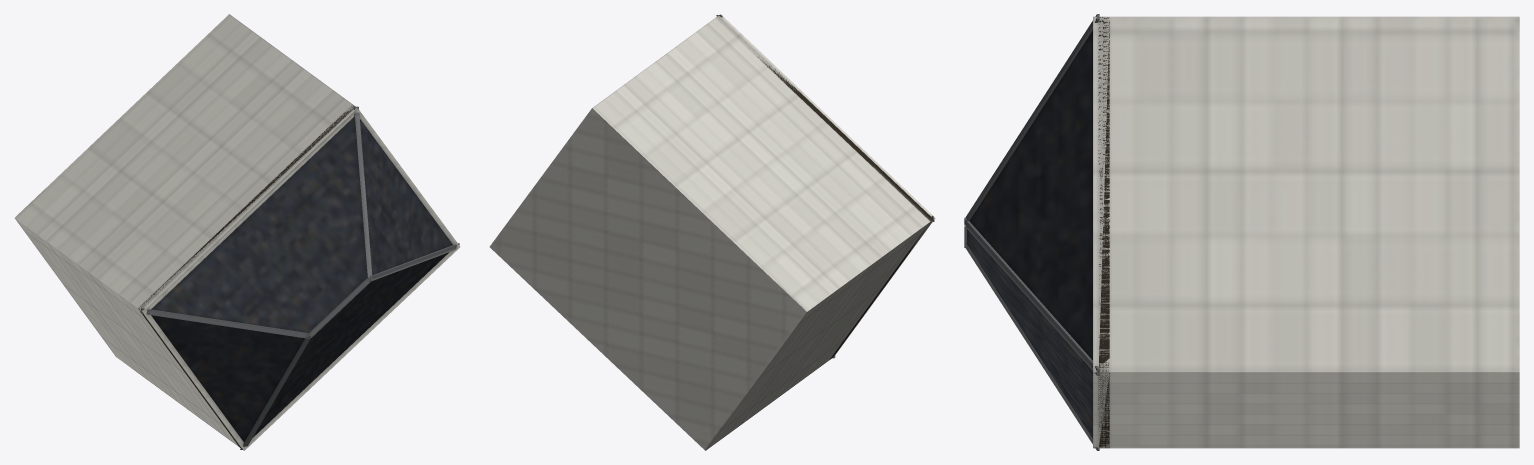
File: house_b0301.obj
The picture shows the model from 3 angles, left to right: view 1: azimuth 30°, elevation 25°; view 2: azimuth 150°, elevation 25°; view 3: azimuth 270°, elevation 25°; orthographic projection. The views are drawn at different scales.
Visible parts, largest first — view 1: house_b0301; view 2: house_b0301; view 3: house_b0301.
Part boxes in pixels (<box>): house_b0301: <box>14,14,460,450</box>; house_b0301: <box>489,14,935,450</box>; house_b0301: <box>964,14,1519,450</box>.
Size of the model in its own units: 13.4 by 12.71 by 12.19.
1 material, 1 textured.
